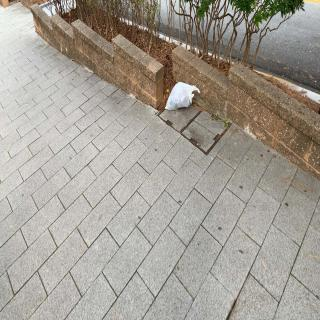Garbage: (164, 78, 200, 112)
